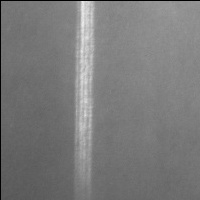scratches: (72, 1, 97, 191)
